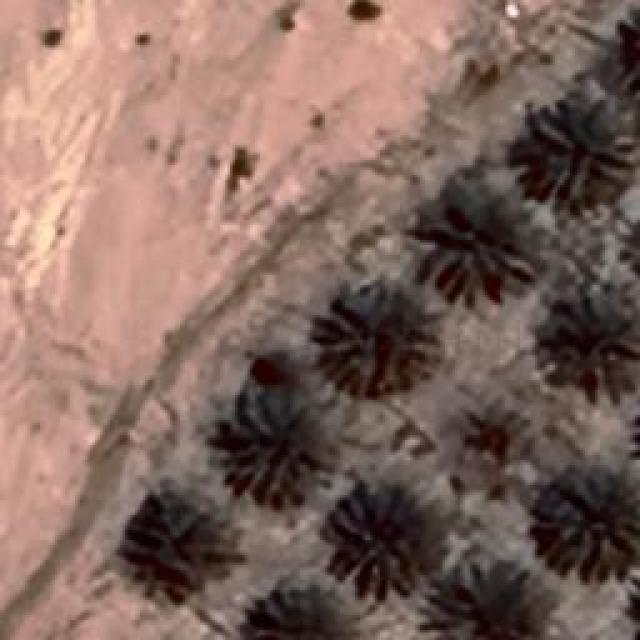PalmTree: (72, 72, 498, 598), (93, 83, 496, 430), (408, 165, 542, 305), (218, 380, 340, 505), (318, 282, 440, 396), (528, 268, 638, 388), (530, 92, 635, 200), (115, 498, 227, 598), (544, 468, 638, 578), (327, 488, 415, 598), (248, 587, 346, 640), (611, 3, 640, 104), (622, 0, 640, 100), (628, 1, 640, 100)
